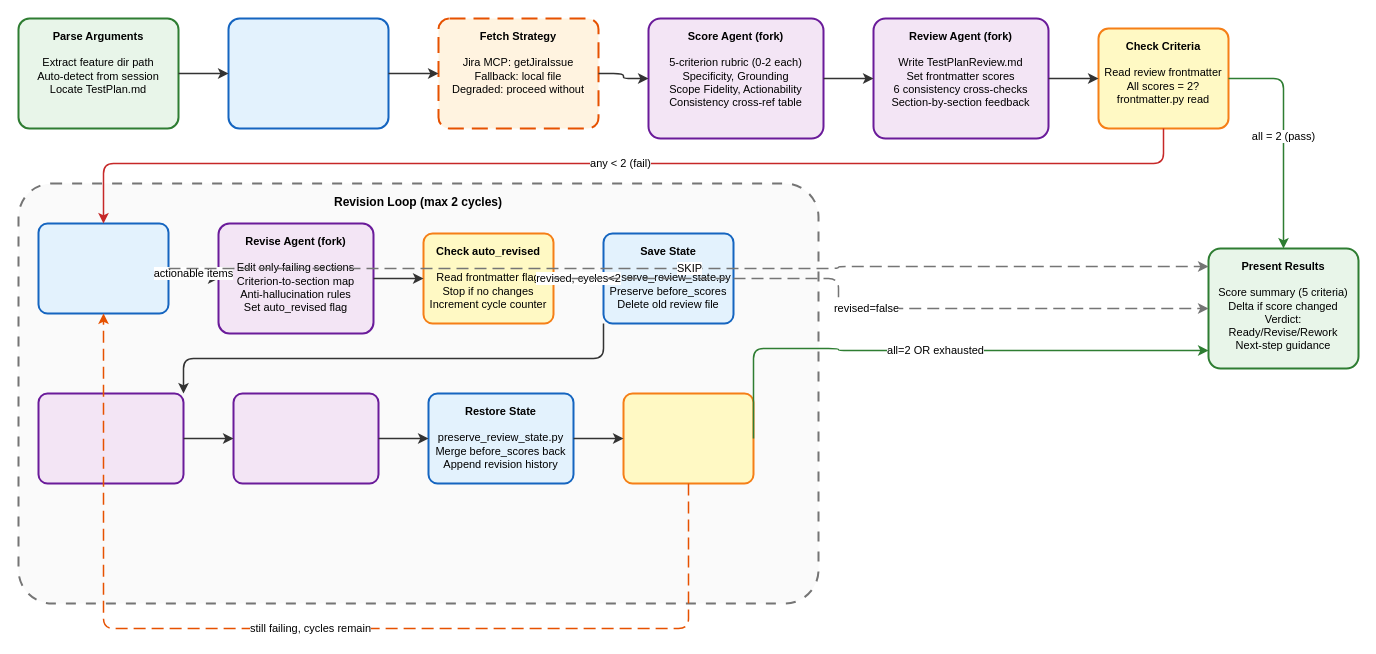
Image size: 1376x654. Some labels were removed from this diagram. Each missing label, with the centre of its shape:
"Filter for Revision filter_for_revision.py Skip if no actionable items" goes at (x=103, y=268).
"Re-Check Criteria All scores = 2? Cycles remaining?" goes at (x=688, y=438).
"Re-Review (fork) Review agent, first_pass=false Write new TestPlanReview.md" goes at (x=305, y=438).
"Re-Score (fork) Score agent on revised plan Fresh rubric assessment" goes at (x=110, y=438).
"Read Test Plan Read TestPlan.md content Extract source_key frontmatter.py read" goes at (x=308, y=73).
